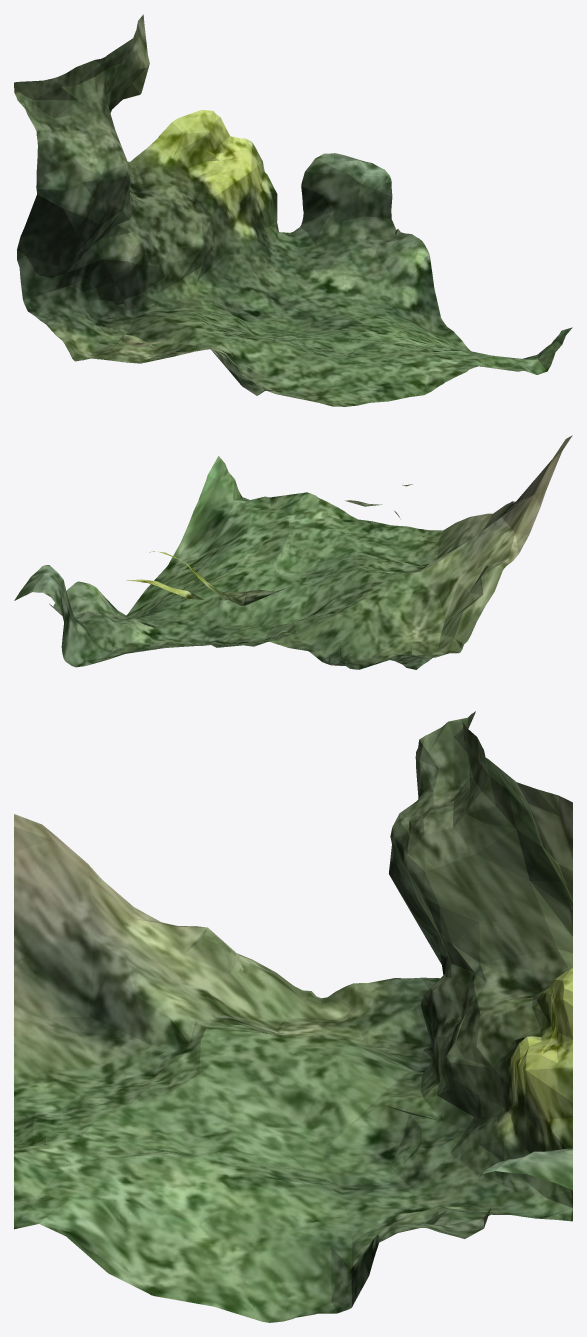
3 renders of one model, top to bottom at view 1: azimuth 30°, elevation 25°; view 2: azimuth 150°, elevation 25°; view 3: azimuth 270°, elevation 25°, orthographic. The views are drawn at different scales.
Bounding box in the file's own units: 5.9 × 4.53 × 5.9.
Materials: 4 (4 with a texture image).
